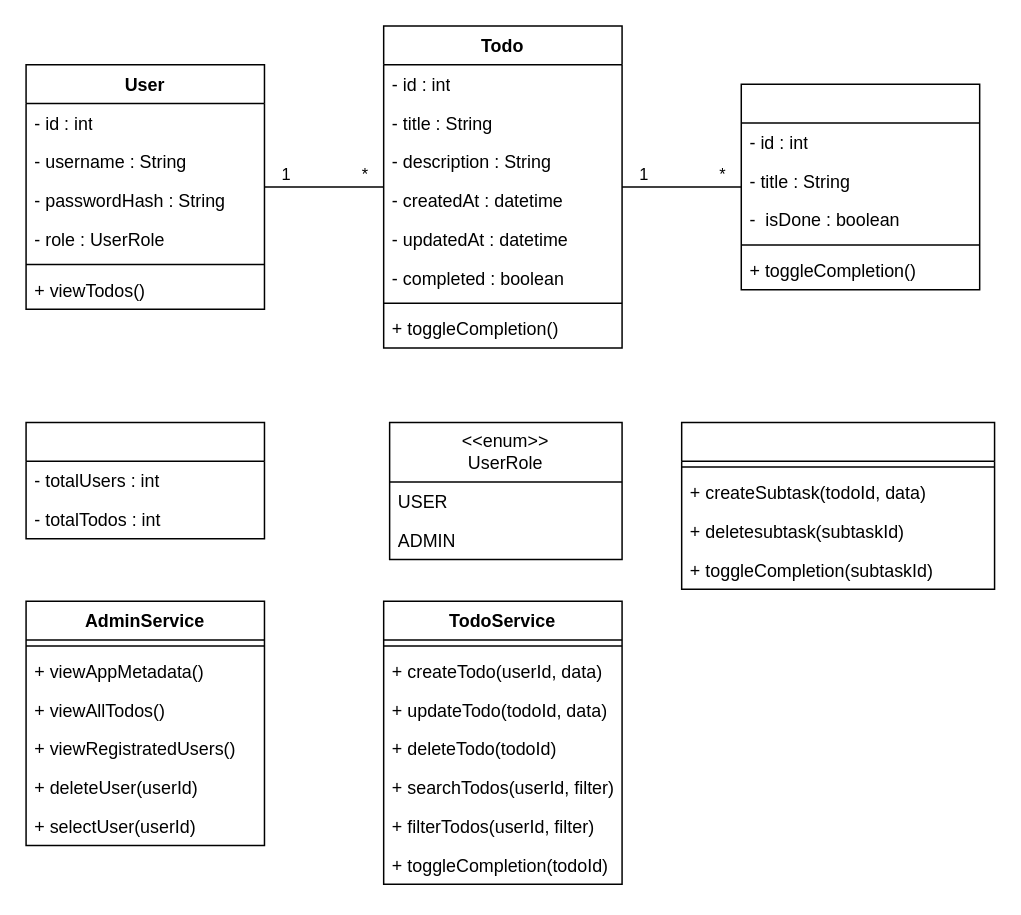
This 1021x915 diagram has some shape labels left out. The box of each missing label's shape, as (x1, y1, x2, y2) in pixels:
AppMetaData: (25, 421, 264, 539)
Subtask: (740, 83, 980, 290)
SubtaskService: (680, 421, 995, 589)
